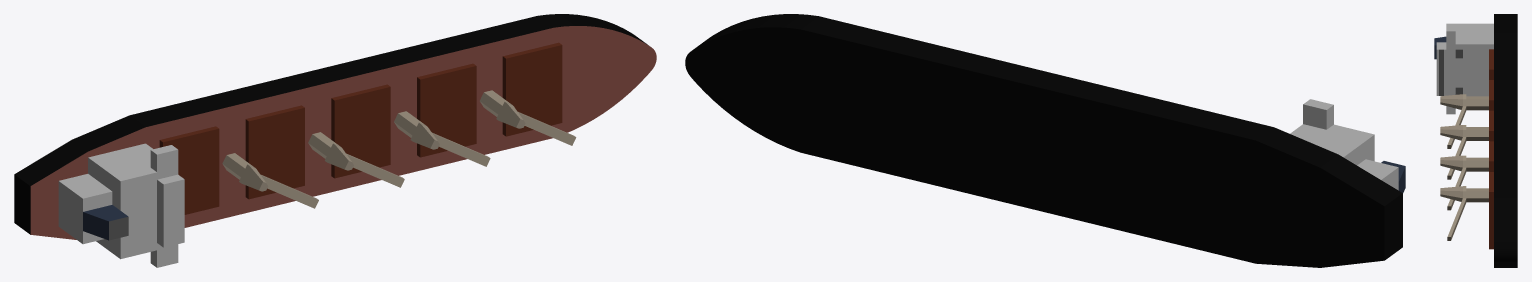
Rendered from bulk_carrier.dae.
The picture shows the model from 3 angles, left to right: view 1: azimuth 30°, elevation 25°; view 2: azimuth 150°, elevation 25°; view 3: azimuth 270°, elevation 25°; orthographic projection. The views are drawn at different scales.
Visible parts, largest first — view 1: coords_ME_ID99_MA_material_30, coords_ME_ID23_MA_material_9, coords_ME_ID31_MA_material_28, coords_ME_ID39_MA_material_29, coords_ME_ID73_MA_material_29, coords_ME_ID67_MA_material_29, coords_ME_ID47_MA_material_29, coords_ME_ID53_MA_material_29, coords_ME_ID79_MA_material_27, coords_ME_ID3_MA_material_27, coords_ME_ID17_MA_material_27, coords_ME_ID11_MA_material_27 (+2 smaller); view 2: coords_ME_ID23_MA_material_9, coords_ME_ID31_MA_material_28; view 3: coords_ME_ID23_MA_material_9, coords_ME_ID31_MA_material_28, coords_ME_ID17_MA_material_27, coords_ME_ID3_MA_material_27, coords_ME_ID11_MA_material_27, coords_ME_ID79_MA_material_27, coords_ME_ID39_MA_material_29, coords_ME_ID93_MA_material, coords_ME_ID67_MA_material_29, coords_ME_ID73_MA_material_29, coords_ME_ID53_MA_material_29, coords_ME_ID47_MA_material_29 (+2 smaller).
Part boxes in pixels (x1,y1,x2,y2): coords_ME_ID99_MA_material_30: (30, 26, 656, 239); coords_ME_ID23_MA_material_9: (14, 14, 647, 234); coords_ME_ID31_MA_material_28: (58, 143, 184, 267); coords_ME_ID39_MA_material_29: (502, 42, 562, 136); coords_ME_ID73_MA_material_29: (417, 63, 476, 157); coords_ME_ID67_MA_material_29: (331, 84, 390, 178); coords_ME_ID47_MA_material_29: (245, 105, 304, 199); coords_ME_ID53_MA_material_29: (159, 126, 219, 214); coords_ME_ID79_MA_material_27: (308, 132, 404, 187); coords_ME_ID3_MA_material_27: (394, 111, 490, 166); coords_ME_ID17_MA_material_27: (480, 90, 576, 145); coords_ME_ID11_MA_material_27: (222, 153, 318, 208); coords_ME_ID23_MA_material_9: (685, 14, 1402, 267); coords_ME_ID31_MA_material_28: (1290, 99, 1398, 190); coords_ME_ID23_MA_material_9: (1494, 14, 1517, 267); coords_ME_ID31_MA_material_28: (1436, 23, 1493, 114); coords_ME_ID17_MA_material_27: (1440, 186, 1488, 240); coords_ME_ID3_MA_material_27: (1440, 155, 1488, 210); coords_ME_ID11_MA_material_27: (1440, 94, 1488, 148); coords_ME_ID79_MA_material_27: (1440, 125, 1488, 179); coords_ME_ID39_MA_material_29: (1489, 172, 1493, 249); coords_ME_ID93_MA_material: (1439, 49, 1443, 95); coords_ME_ID67_MA_material_29: (1489, 110, 1493, 141); coords_ME_ID73_MA_material_29: (1489, 141, 1493, 171); coords_ME_ID53_MA_material_29: (1489, 49, 1493, 79); coords_ME_ID47_MA_material_29: (1489, 80, 1493, 110).
Bounding box in the file's own units: 1263 × 218 × 198.
